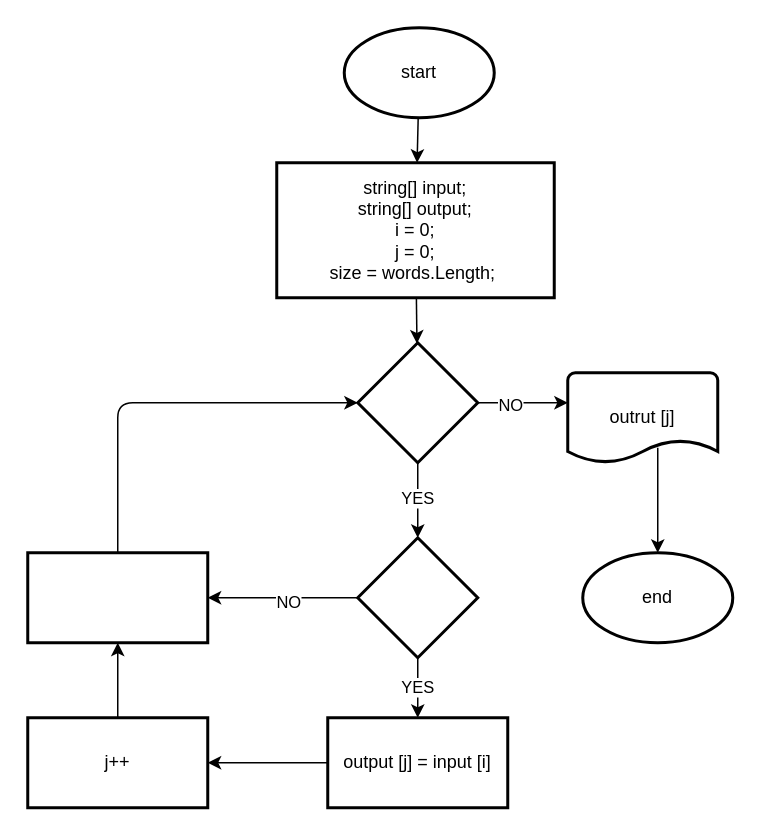
Some shapes in this 759 by 834 pixel diagram are drawn without their labels. Here are the shapes that lost their labels. From the top down, the centre of each, then its label:
(417,402): i < size
(117,597): i++
(417,597): size <= 3
